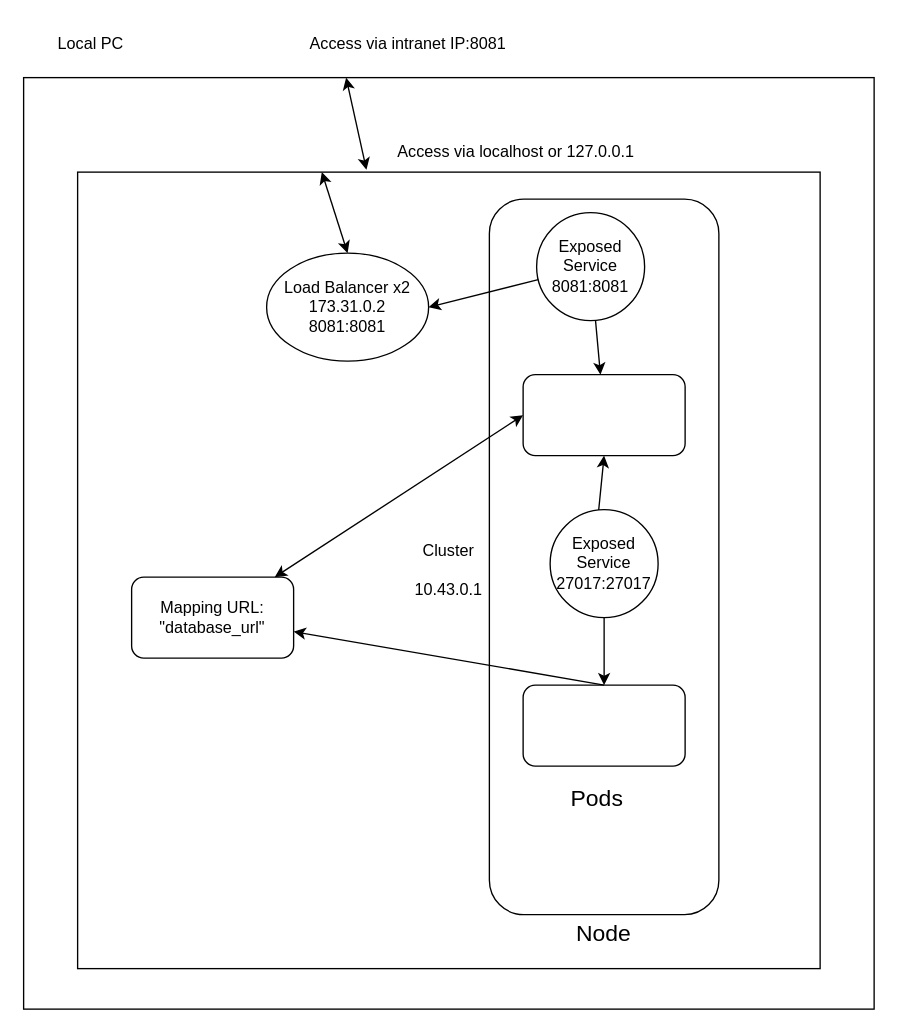
The diagram is 898 pixels wide and 1033 high, and some of its shapes have lost their labels. The shapes that lost their labels are listed below. From the top down, each one's centre as x and y in pixels, then its label:
At point (603, 414): "Mongo Express port:8081 173.31.0.3 10.43.183.240".
At point (603, 725): "Mongodb:4.4 port:27017 10.43.183.150".
